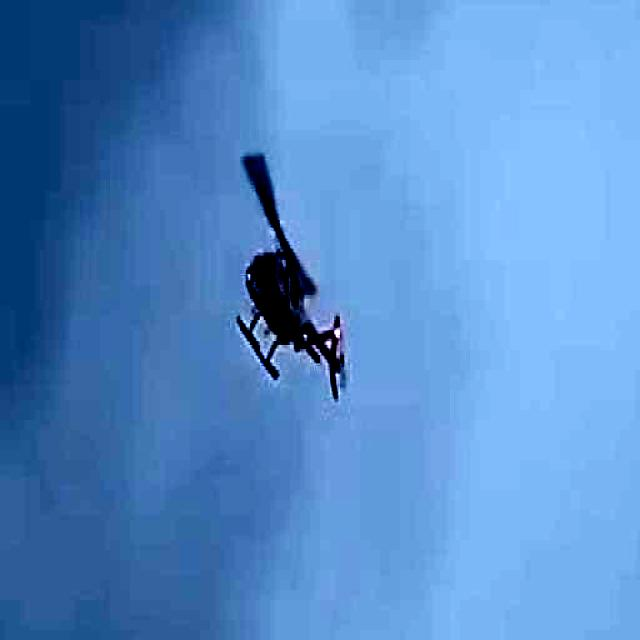drone: (221, 146, 356, 414)
